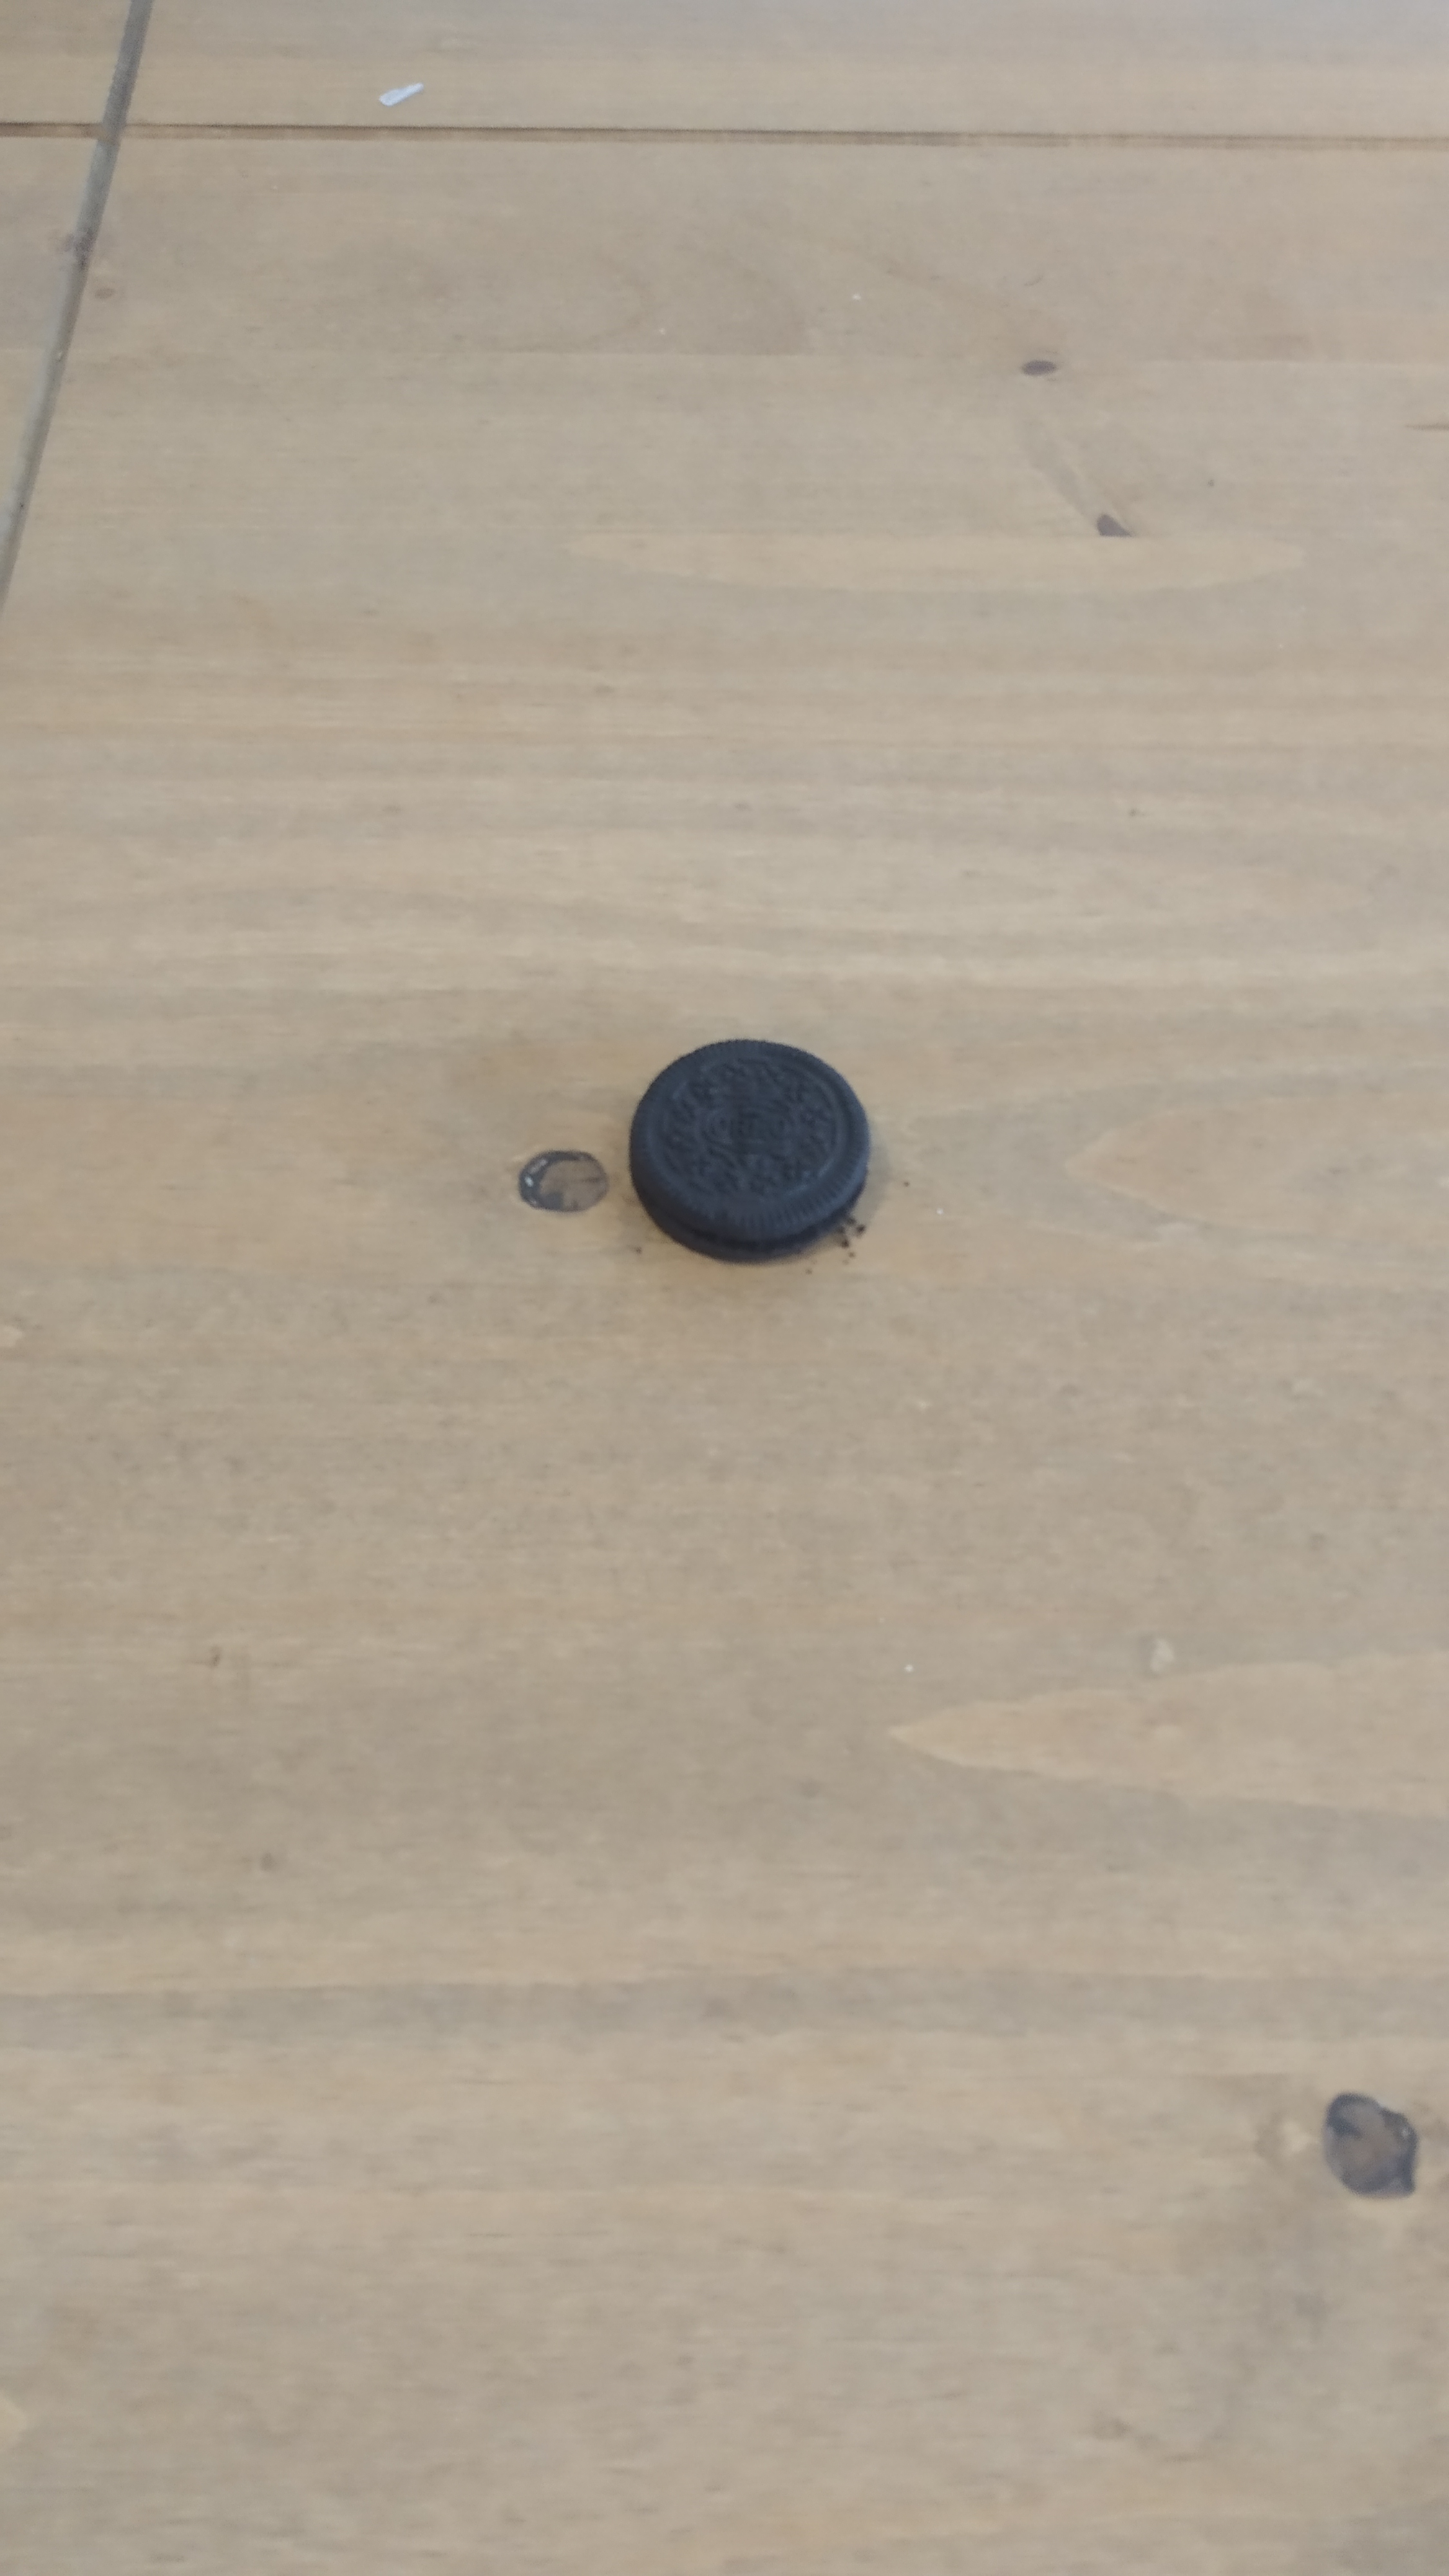oreo: (630, 1039, 870, 1260)
